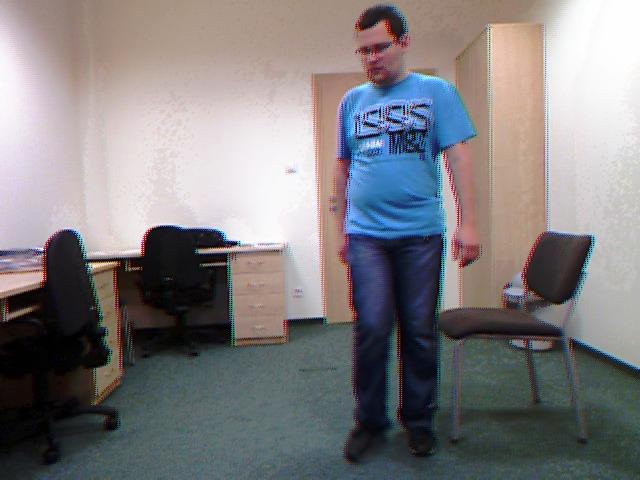standing: (322, 0, 496, 480)
